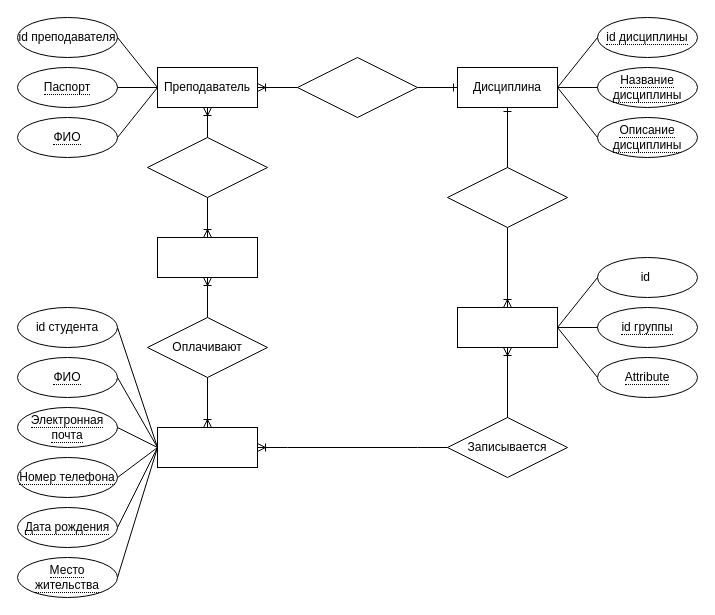
This 715x615 diagram has some shape labels left out. Here are the shapes that lost their labels. From the top down, the box of each, then its label:
(296, 56, 418, 118): Преподает
(146, 136, 268, 198): Работают
(446, 166, 568, 228): Привязан
(156, 236, 258, 278): Организация
(456, 306, 558, 348): Группа
(156, 426, 258, 468): Студент
